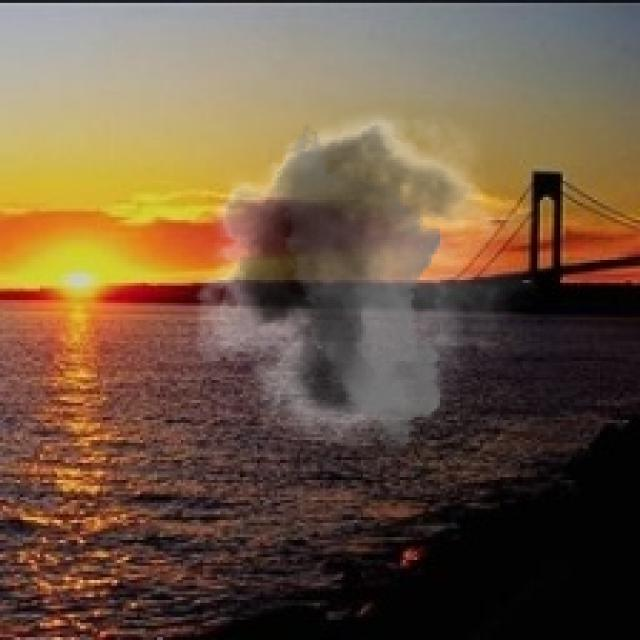Smoke: (177, 94, 537, 452)
